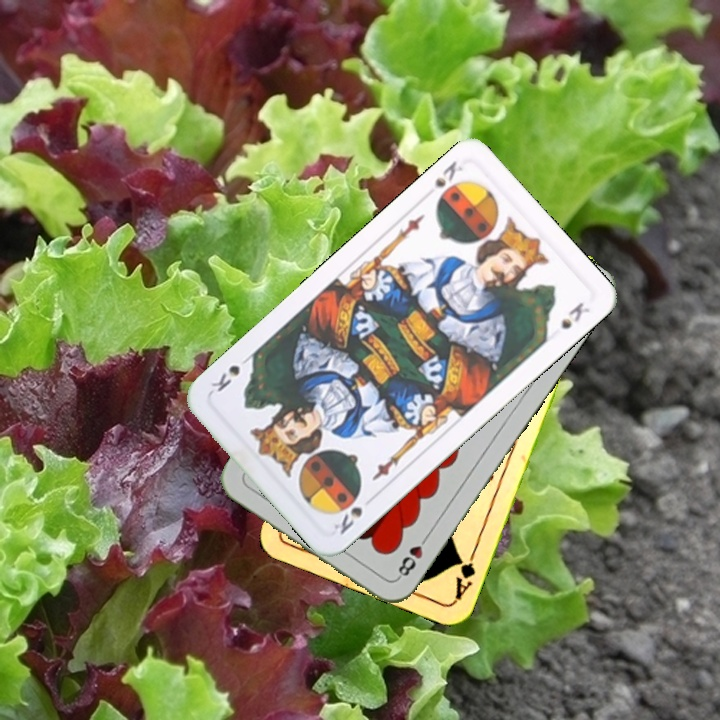GA: (450, 546, 479, 603)
H8: (393, 530, 432, 582)
SK: (329, 502, 365, 538), (430, 156, 465, 190)
